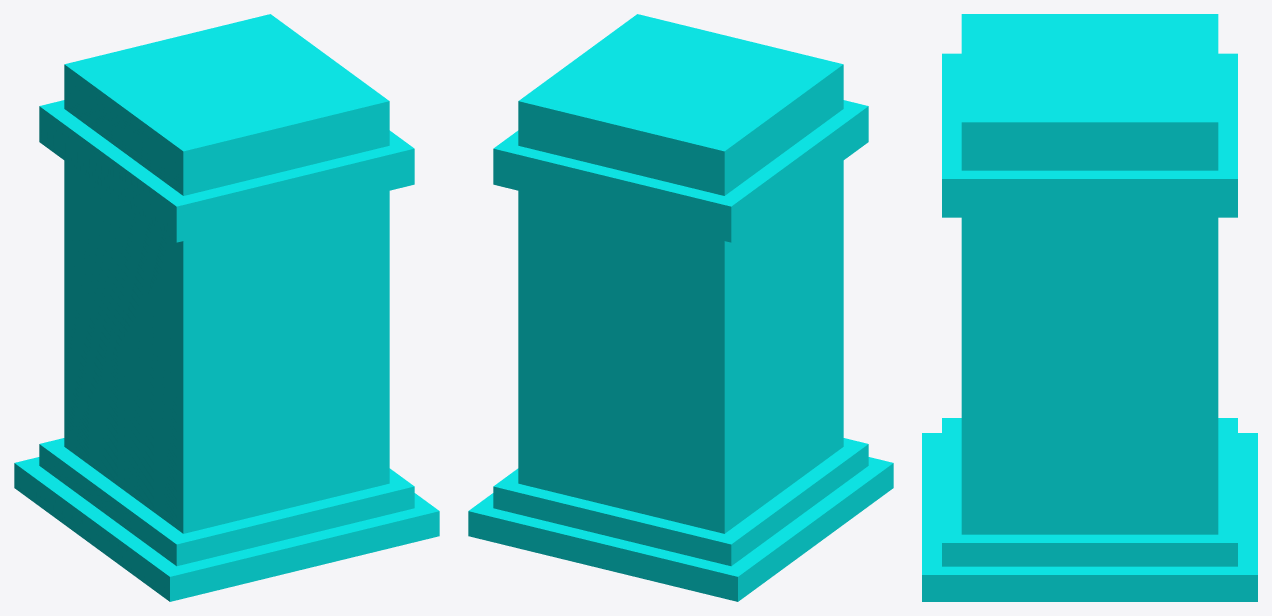
The model's file is OutsideRailColumn.FBX.
3 views of the same model, side by side, from view 1: azimuth 30°, elevation 25°; view 2: azimuth 150°, elevation 25°; view 3: azimuth 270°, elevation 25° (orthographic). The views are drawn at different scales.
Visible parts, largest first — view 1: OutsideRailColumn; view 2: OutsideRailColumn; view 3: OutsideRailColumn.
Boxes of the visible parts, box(x1,y1,x2,y2) form: OutsideRailColumn: box(14, 14, 439, 601); OutsideRailColumn: box(468, 14, 893, 601); OutsideRailColumn: box(922, 14, 1257, 601).
Size of the model in its own units: 130 by 130 by 198.
